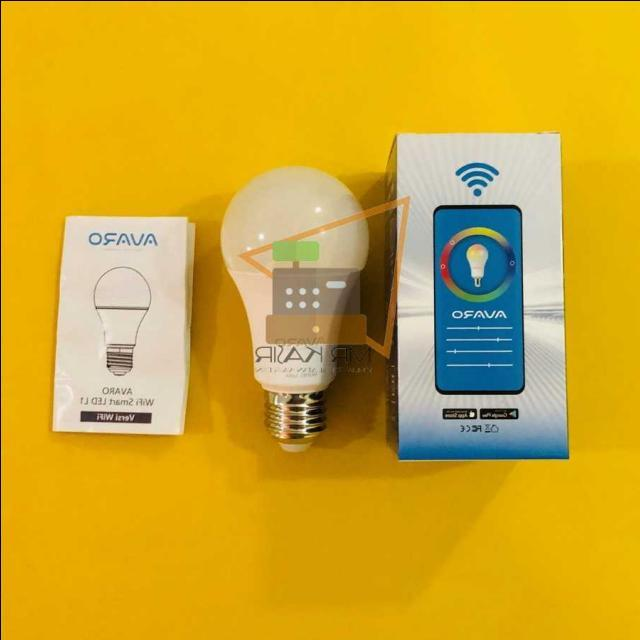light_bulb: (202, 155, 386, 473)
